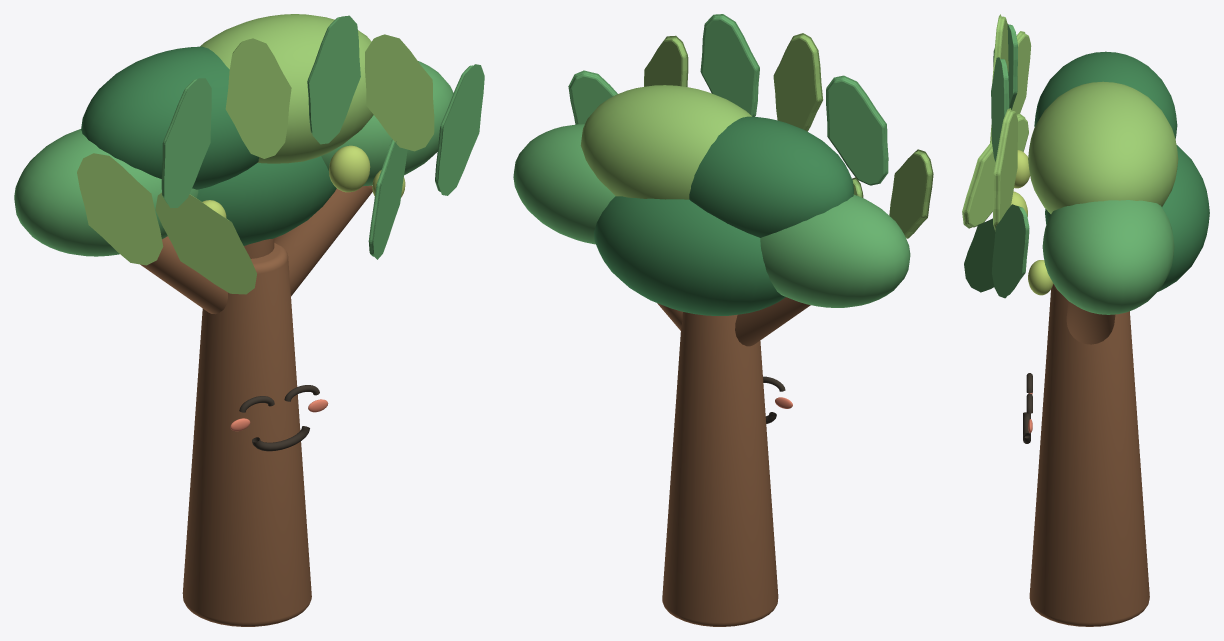
File: npc-heritage-763.glb
The picture shows the model from 3 angles, left to right: view 1: azimuth 30°, elevation 25°; view 2: azimuth 150°, elevation 25°; view 3: azimuth 270°, elevation 25°; orthographic projection. The views are drawn at different scales.
Visible parts, largest first — view 1: npc-heritage-763.Trunk, npc-heritage-763.Canopy.1, npc-heritage-763.Canopy.2, npc-heritage-763.Canopy.0, npc-heritage-763.Canopy.4, npc-heritage-763.LobedLeaf.0, npc-heritage-763.LobedLeaf.4, npc-heritage-763.LobedLeaf.2, npc-heritage-763.LobedLeaf.6, npc-heritage-763.LobedLeaf.3, npc-heritage-763.LobedLeaf.1, npc-heritage-763.LobedLeaf.5 (+5 smaller); view 2: npc-heritage-763.Trunk, npc-heritage-763.Canopy.4, npc-heritage-763.Canopy.1, npc-heritage-763.Canopy.2, npc-heritage-763.Canopy.0, npc-heritage-763.Canopy.3, npc-heritage-763.LobedLeaf.1, npc-heritage-763.LobedLeaf.3, npc-heritage-763.LobedLeaf.2, npc-heritage-763.LobedLeaf.0, npc-heritage-763.Branch.0, npc-heritage-763.LobedLeaf.4 (+1 smaller); view 3: npc-heritage-763.Trunk, npc-heritage-763.Canopy.2, npc-heritage-763.Canopy.3, npc-heritage-763.Canopy.1, npc-heritage-763.Canopy.4, npc-heritage-763.LobedLeaf.5, npc-heritage-763.LobedLeaf.6, npc-heritage-763.LobedLeaf.4, npc-heritage-763.LobedLeaf.7, npc-heritage-763.Branch.1, npc-heritage-763.LobedLeaf.3, npc-heritage-763.LobedLeaf.0 (+4 smaller).
Boxes of the visible parts, x1,y1,x2,y2 form: npc-heritage-763.Trunk: (182, 243, 311, 626); npc-heritage-763.Canopy.1: (81, 46, 258, 189); npc-heritage-763.Canopy.2: (200, 14, 373, 163); npc-heritage-763.Canopy.0: (14, 129, 198, 256); npc-heritage-763.Canopy.4: (197, 156, 336, 245); npc-heritage-763.LobedLeaf.0: (77, 153, 163, 265); npc-heritage-763.LobedLeaf.4: (365, 34, 434, 151); npc-heritage-763.LobedLeaf.2: (225, 38, 291, 158); npc-heritage-763.LobedLeaf.6: (155, 192, 256, 294); npc-heritage-763.LobedLeaf.3: (307, 15, 360, 144); npc-heritage-763.LobedLeaf.1: (161, 78, 211, 207); npc-heritage-763.LobedLeaf.5: (435, 64, 484, 195); npc-heritage-763.Trunk: (662, 312, 778, 626); npc-heritage-763.Canopy.4: (594, 196, 785, 315); npc-heritage-763.Canopy.1: (689, 116, 853, 237); npc-heritage-763.Canopy.2: (580, 85, 751, 199); npc-heritage-763.Canopy.0: (760, 194, 910, 307); npc-heritage-763.Canopy.3: (513, 124, 615, 244); npc-heritage-763.LobedLeaf.1: (826, 75, 888, 185); npc-heritage-763.LobedLeaf.3: (700, 14, 759, 116); npc-heritage-763.LobedLeaf.2: (773, 33, 823, 131); npc-heritage-763.LobedLeaf.0: (889, 149, 933, 238); npc-heritage-763.Branch.0: (735, 297, 810, 346); npc-heritage-763.LobedLeaf.4: (644, 35, 688, 86); npc-heritage-763.Trunk: (1029, 284, 1149, 626); npc-heritage-763.Canopy.2: (1028, 81, 1178, 213); npc-heritage-763.Canopy.3: (1042, 200, 1174, 314); npc-heritage-763.Canopy.1: (1034, 51, 1177, 138); npc-heritage-763.Canopy.4: (1045, 145, 1209, 291); npc-heritage-763.LobedLeaf.5: (992, 204, 1029, 298); npc-heritage-763.LobedLeaf.6: (962, 113, 1028, 228); npc-heritage-763.LobedLeaf.4: (993, 108, 1017, 231); npc-heritage-763.LobedLeaf.7: (964, 218, 995, 292); npc-heritage-763.Branch.1: (1066, 301, 1115, 344); npc-heritage-763.LobedLeaf.3: (991, 57, 1009, 161); npc-heritage-763.LobedLeaf.0: (990, 31, 1031, 142).
Size of the model in its own units: 3.42 by 4.65 by 1.84.
